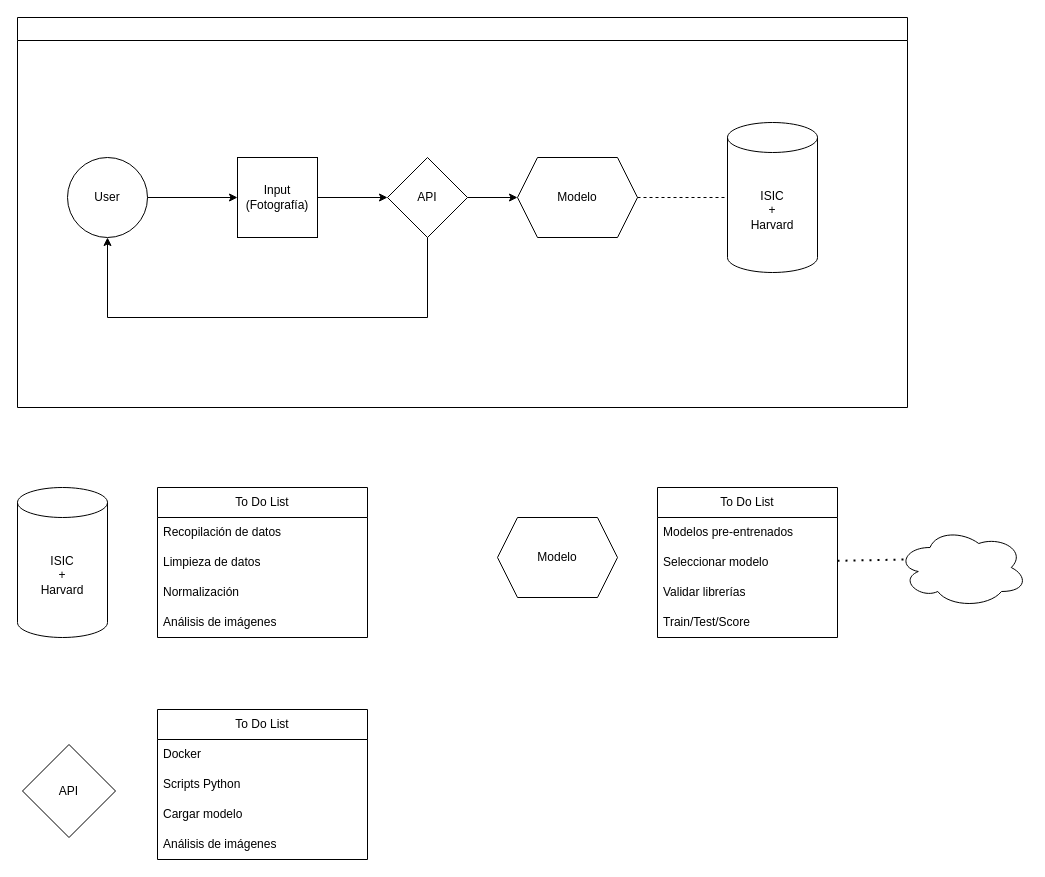
Image size: 1045x877. Some labels were removed from this diagram. Each missing label, with the centre of its shape:
"APP INTERFACE" goes at (x=462, y=212).
"Modelos exploration" goes at (x=962, y=567).
